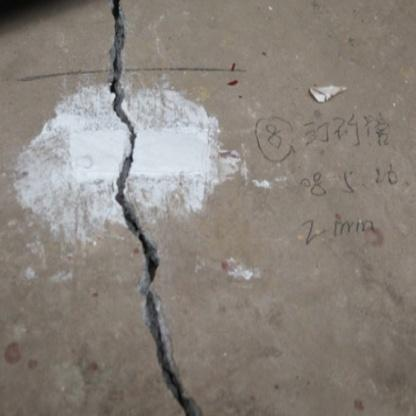Cracks: (106, 0, 213, 416)
